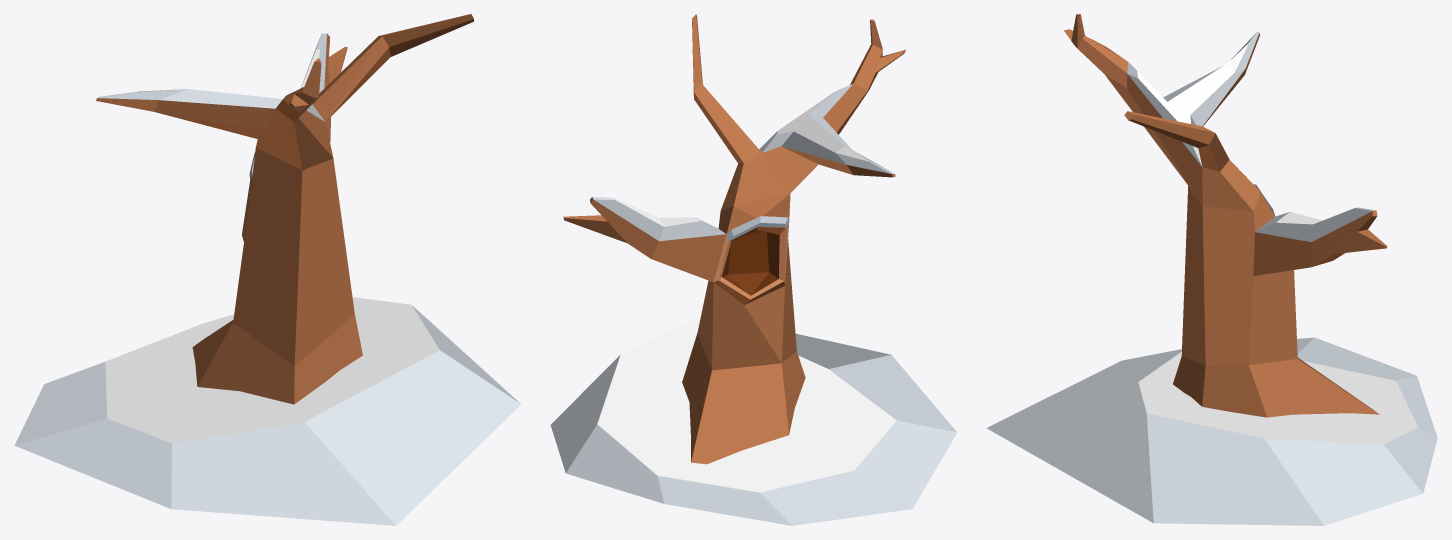
The model's file is TreeWinter10_Alt4.fbx.
The picture shows the model from 3 angles, left to right: view 1: azimuth 30°, elevation 25°; view 2: azimuth 150°, elevation 25°; view 3: azimuth 270°, elevation 25°; orthographic projection. The views are drawn at different scales.
Parts seen in each view (by area): view 1: TreeWinter10_Alt4; view 2: TreeWinter10_Alt4; view 3: TreeWinter10_Alt4.
Part boxes in pixels (left/top/right/bottom): TreeWinter10_Alt4: left=14, top=14, right=521, bottom=525; TreeWinter10_Alt4: left=550, top=14, right=957, bottom=525; TreeWinter10_Alt4: left=986, top=14, right=1437, bottom=525.
Size of the model in its own units: 1.57 by 1.57 by 1.59.
